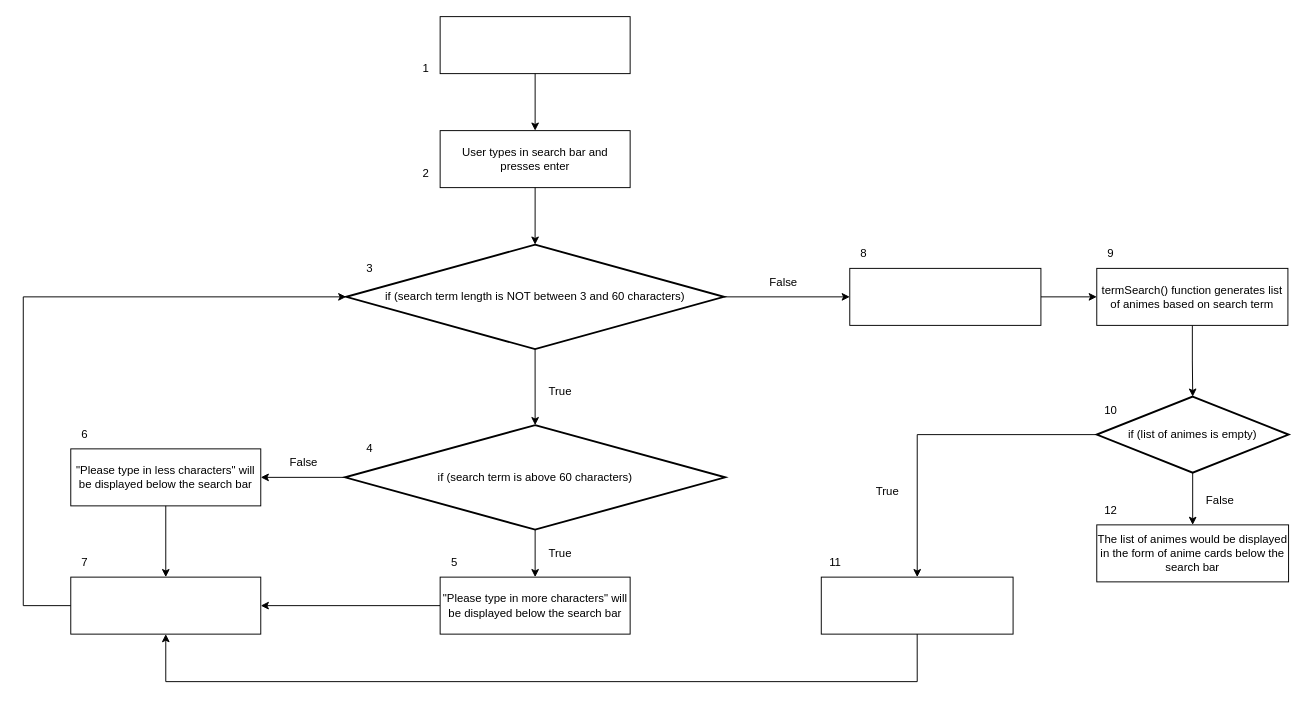
Image size: 1306x706. Some labels were removed from this diagram. The centre of each missing label's shape, as x and y in pixels:
"No results found" would be displayed below the search bar: (916,605)
Pass search term into the termSearch() function: (945,296)
User clicks on Search Bar: (534,45)
User retypes in the search bar: (165,605)
